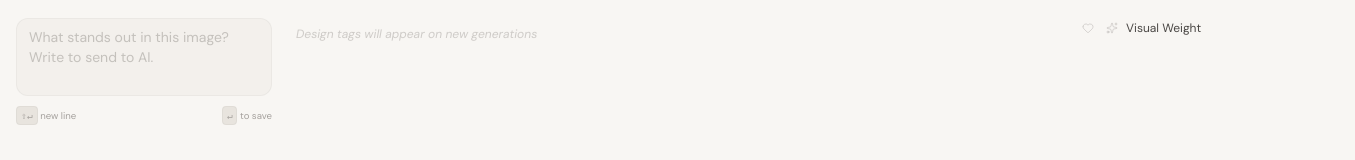
Test: DesignAnnotation › design dimensions display › should expand dimension description when clicked
The image size is (1355, 160).
Expected: the text "Heavy elements create grounding" is not shown
# Click dimension name to expand
Step 1. Click the button "Visual Weight" → [1230, 28], box [1126,20,1334,36]
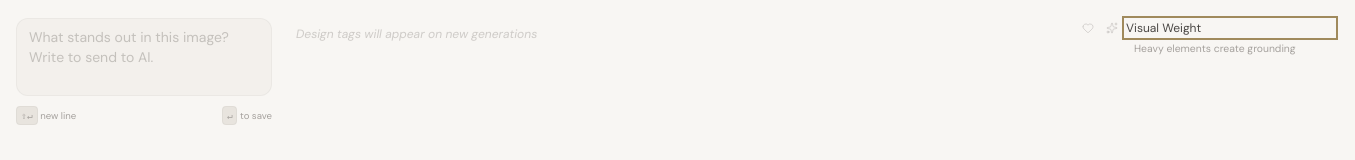
Expected: the text "Heavy elements create grounding" is shown, [1134,42,1296,55]
